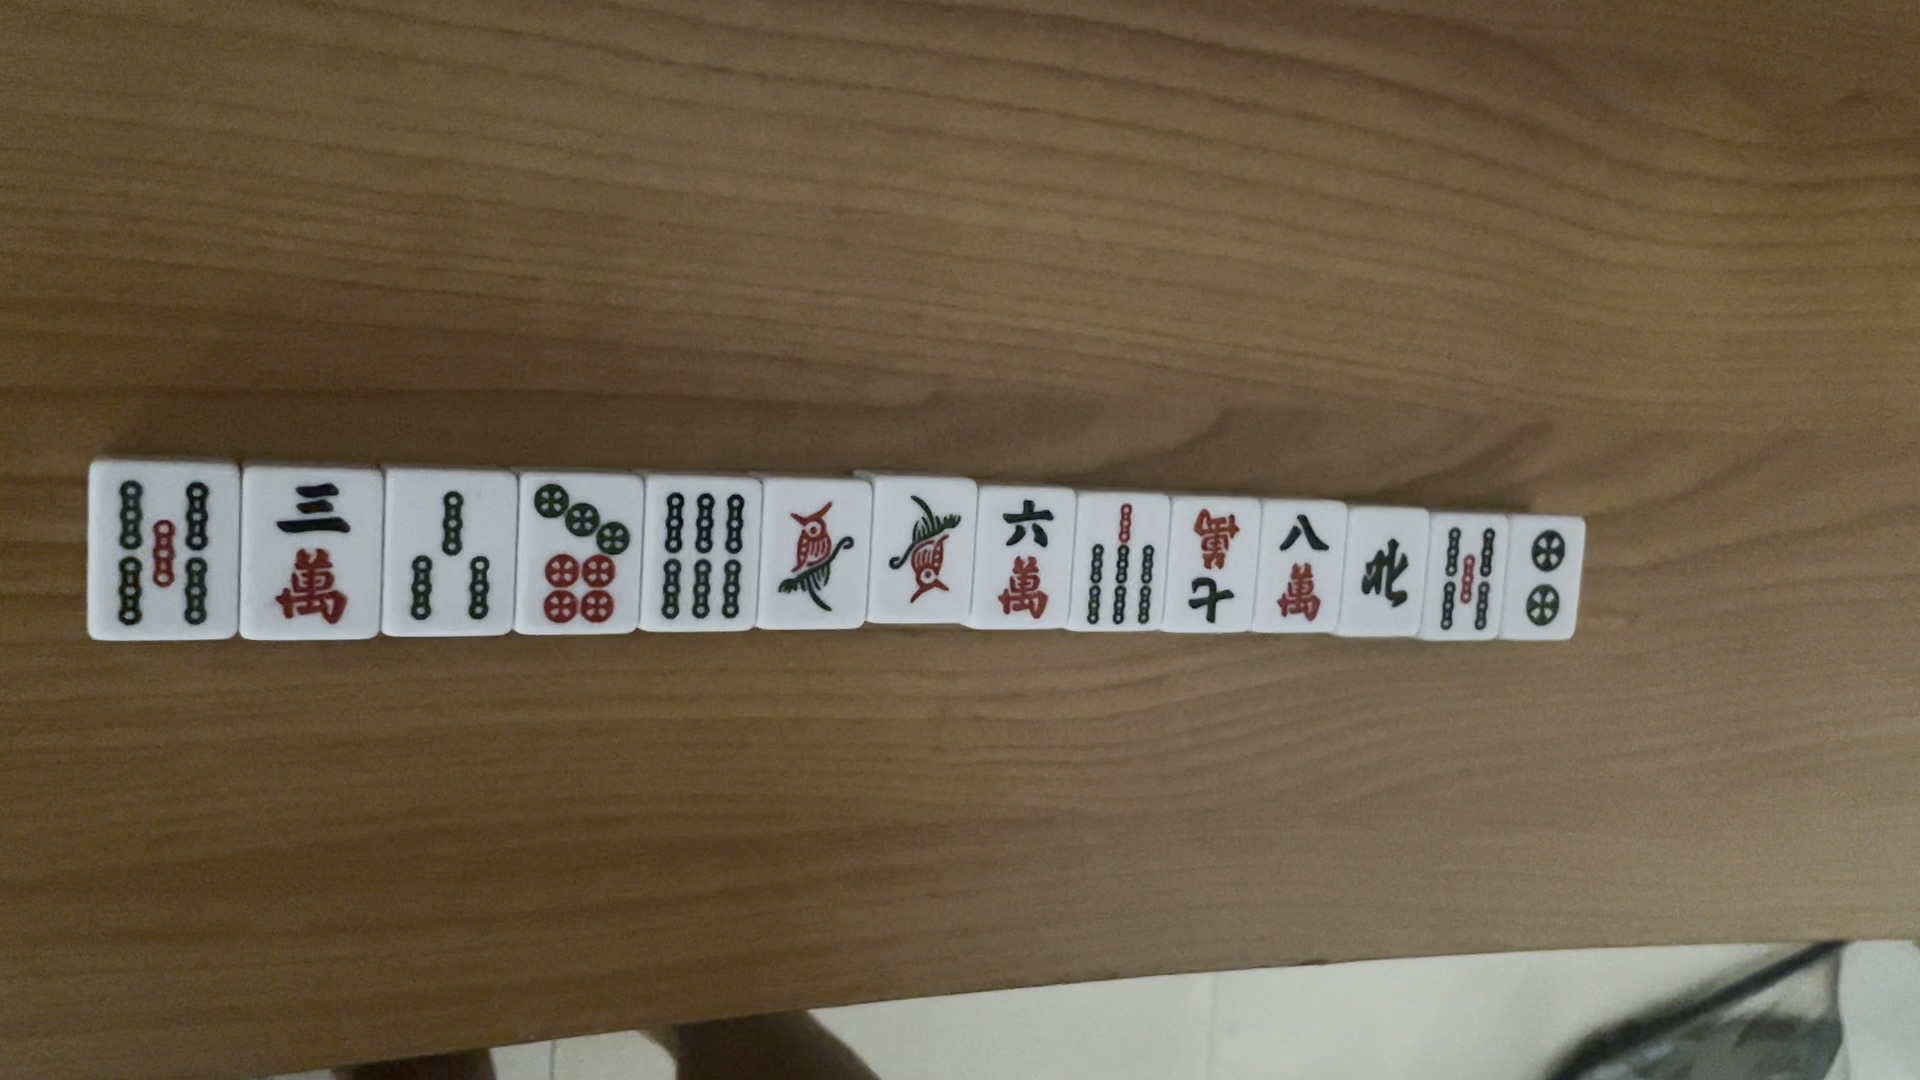b-1: (764, 498, 864, 620), (886, 492, 965, 607)
b-3: (400, 480, 502, 625)
b-5: (100, 472, 220, 632), (1435, 521, 1502, 640)
b-6: (651, 483, 749, 628)
b-7: (1083, 501, 1156, 630)
c-3: (260, 480, 364, 633)
c-6: (986, 491, 1058, 622)
c-7: (1184, 504, 1245, 624)
c-8: (1265, 512, 1336, 625)
d-2: (1522, 527, 1571, 630)
d-7: (529, 480, 633, 630)
honors-north: (1357, 533, 1412, 612)
